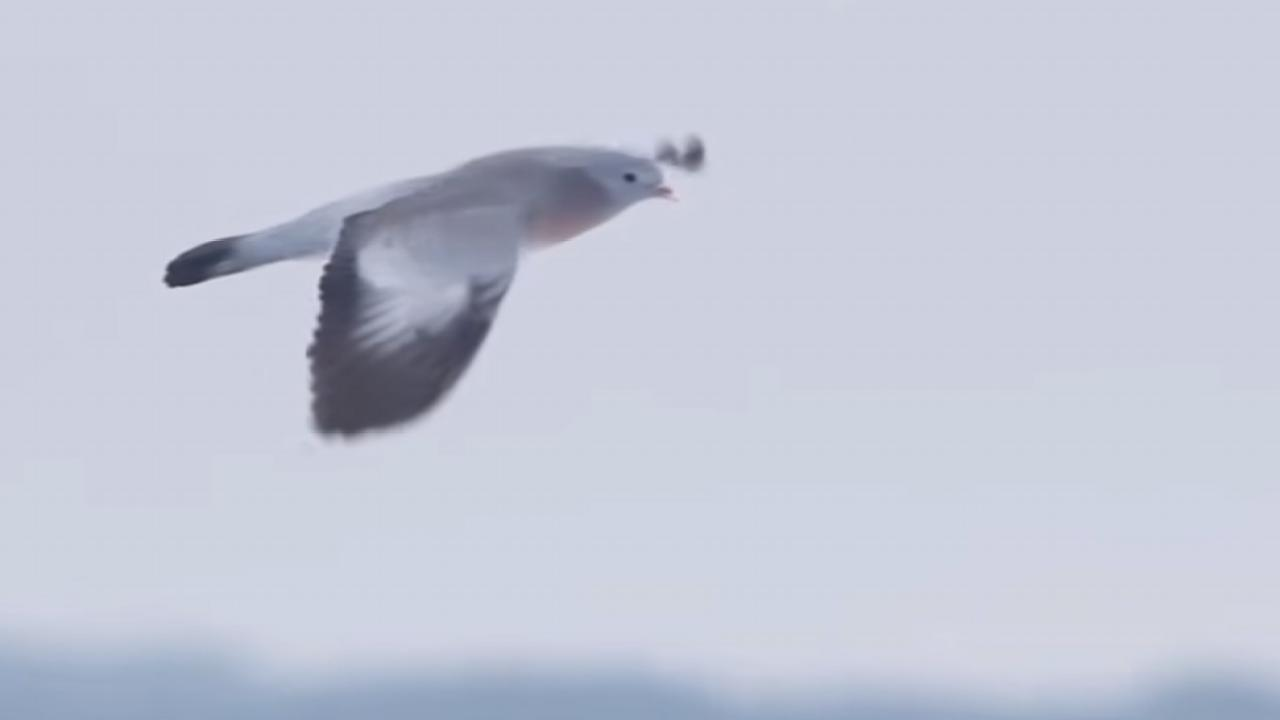Bird: (151, 128, 717, 450)
